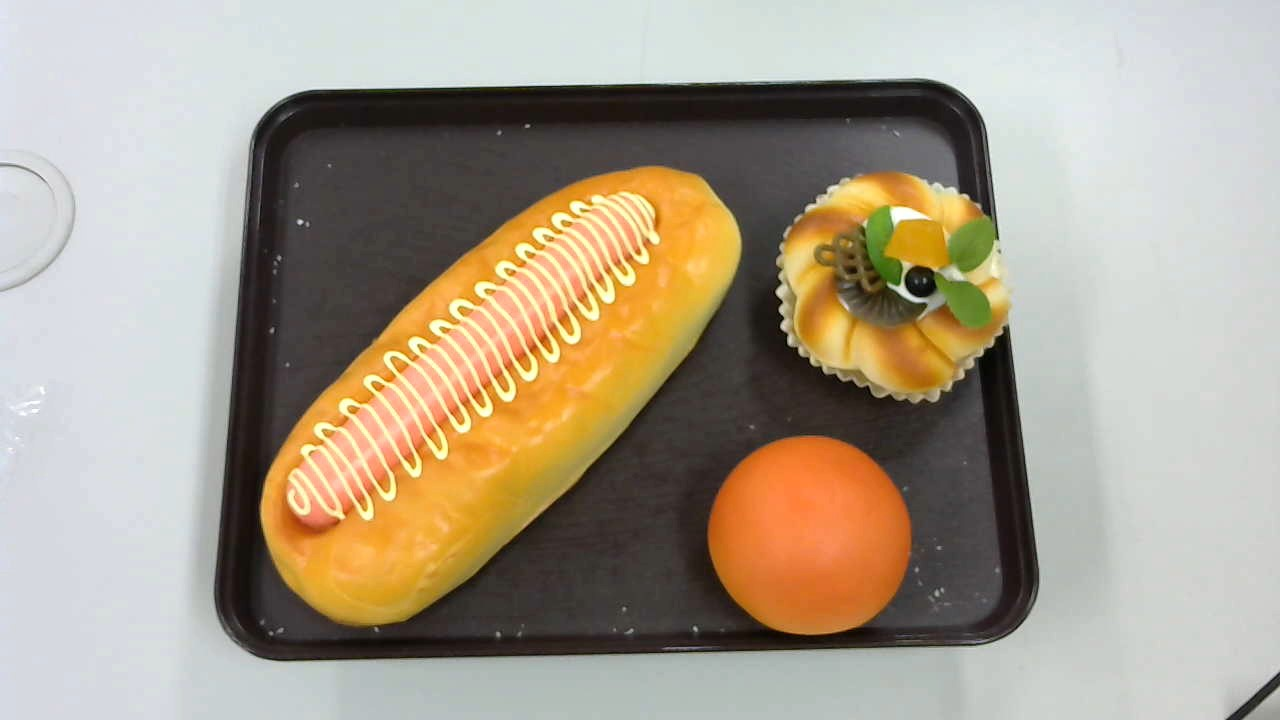bun: (707, 432, 912, 638)
fruit tart: (776, 170, 1017, 402)
hot dog: (258, 164, 740, 627)
